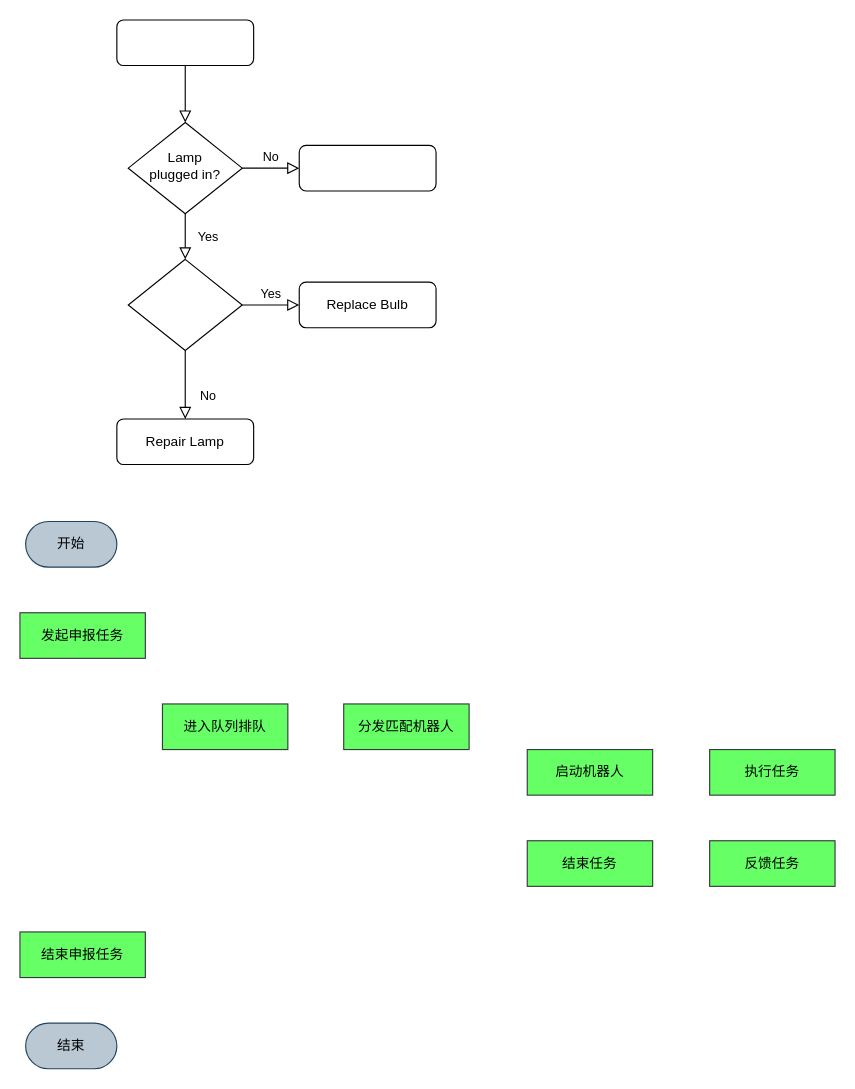
Image size: 855x1089. Some labels were removed from this diagram. The centre of each missing label's shape, as x and y in pixels:
"Bulb burned out?" goes at point (184, 304).
"Lamp doesn't work" goes at point (185, 42).
"Plug in lamp" goes at point (367, 167).
